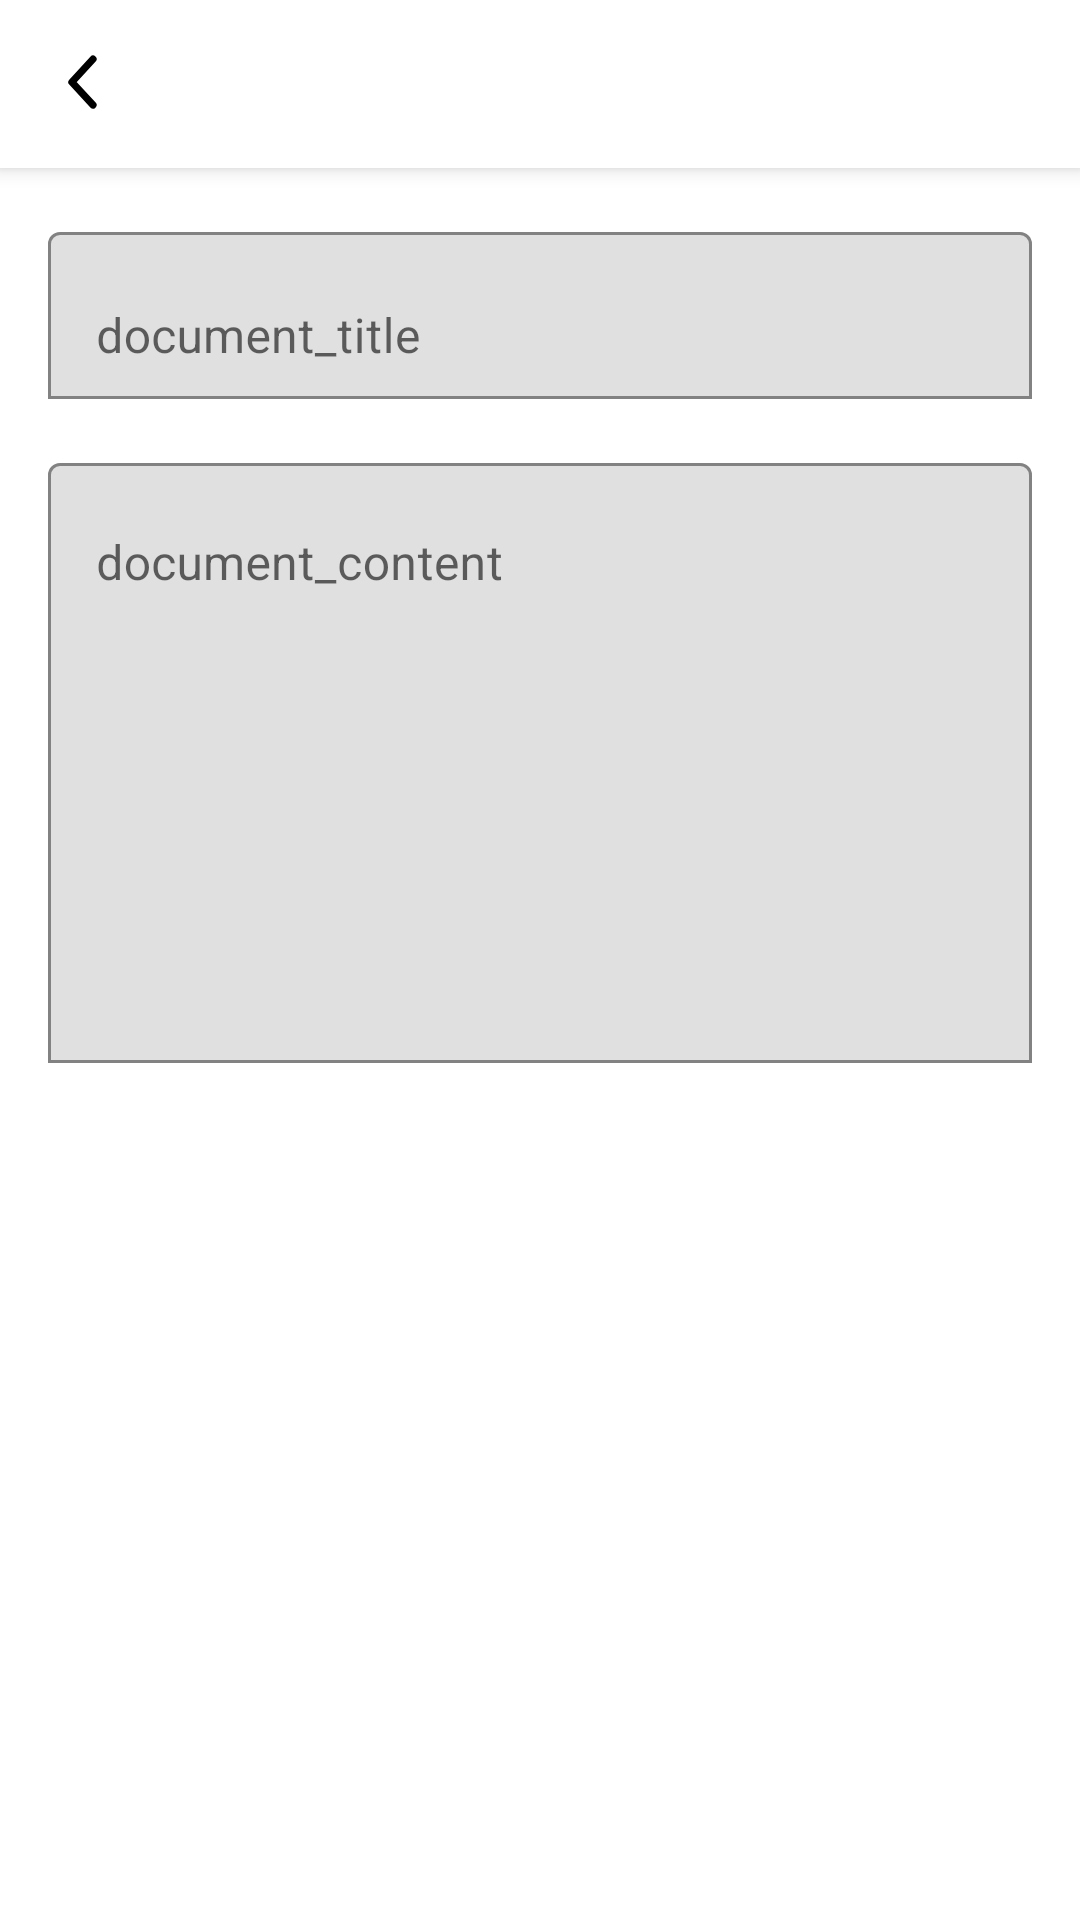

Icon bounding boxes for this 1080×1920 phone screenshot, format (left=x1, top=y1, right=x2, bottom=y2):
Back button: (left=68, top=55, right=97, bottom=109)
